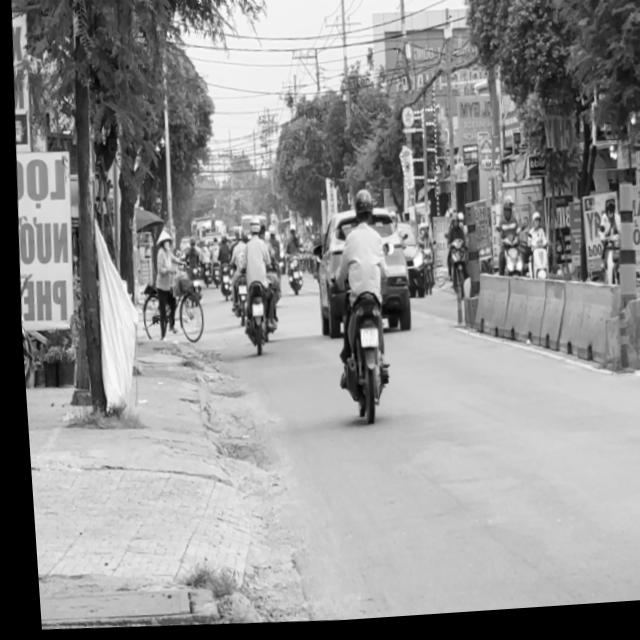helmet: (350, 190, 373, 229)
licenseplate: (320, 187, 396, 425)
nohelmet: (355, 330, 375, 352)
